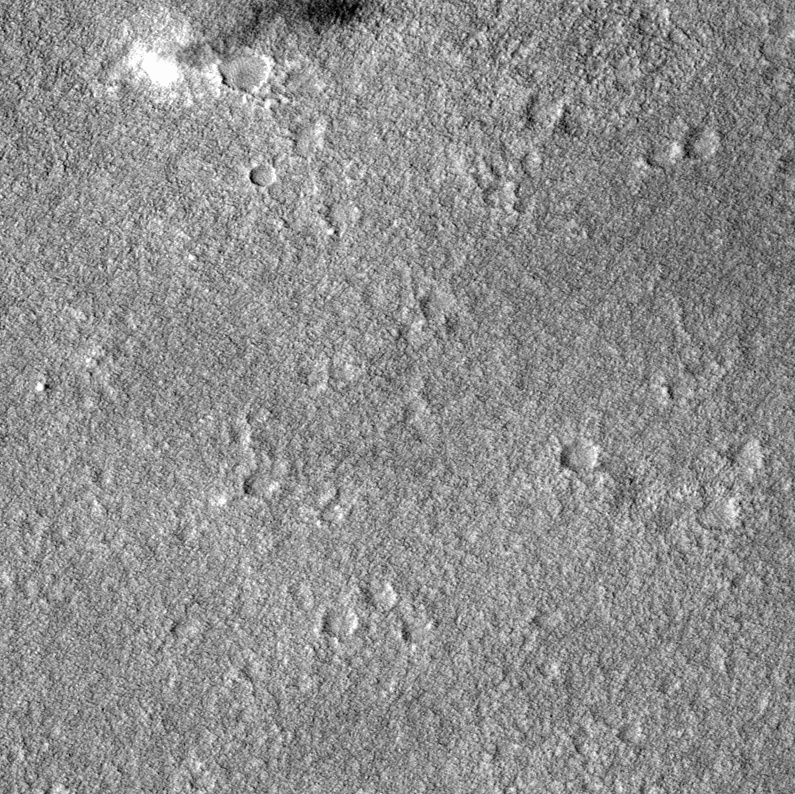dust_devil: (126, 1, 386, 90)
